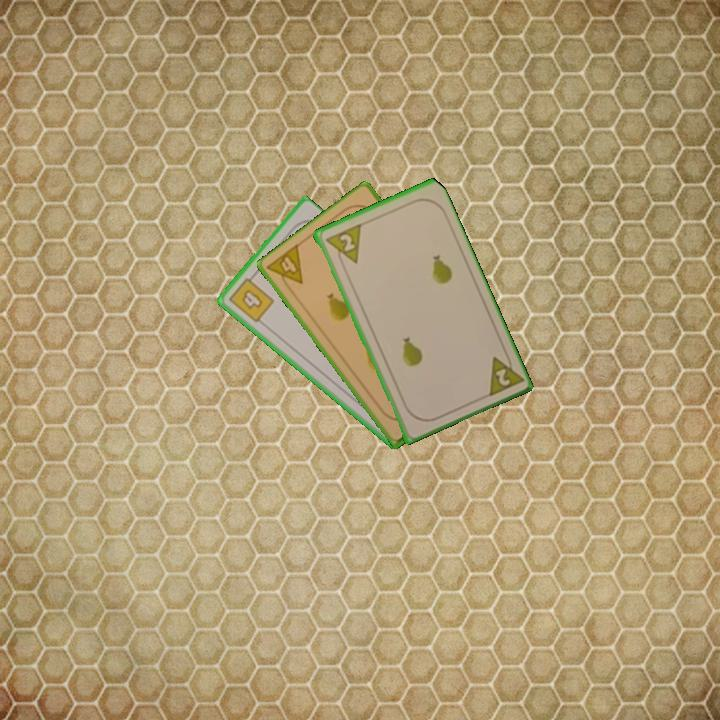2p: (482, 347, 525, 400), (321, 220, 364, 270)
4b: (225, 270, 277, 326)
4p: (263, 241, 306, 296)
